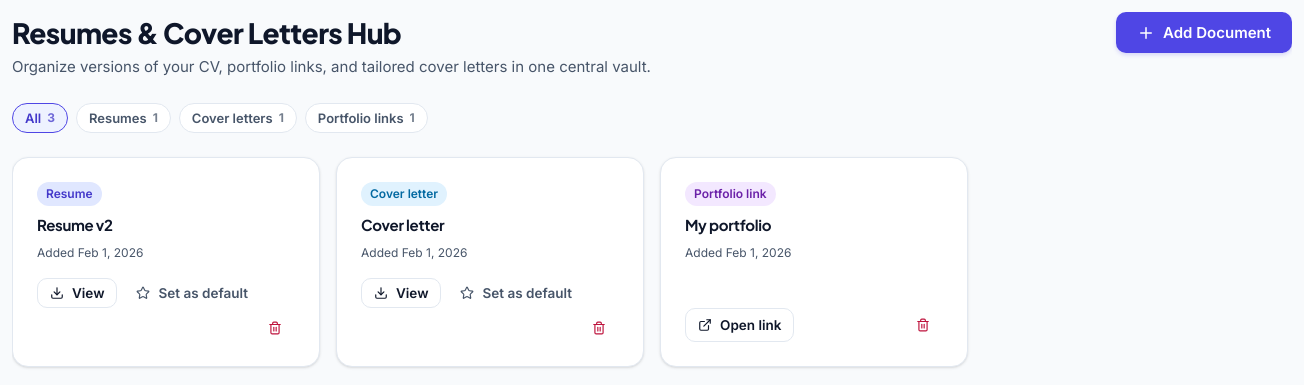
Test: filtering by type › narrows the list to one type
Click the radio button labelled "Resumes 1" at x=123, y=118, box [76, 102, 171, 132]
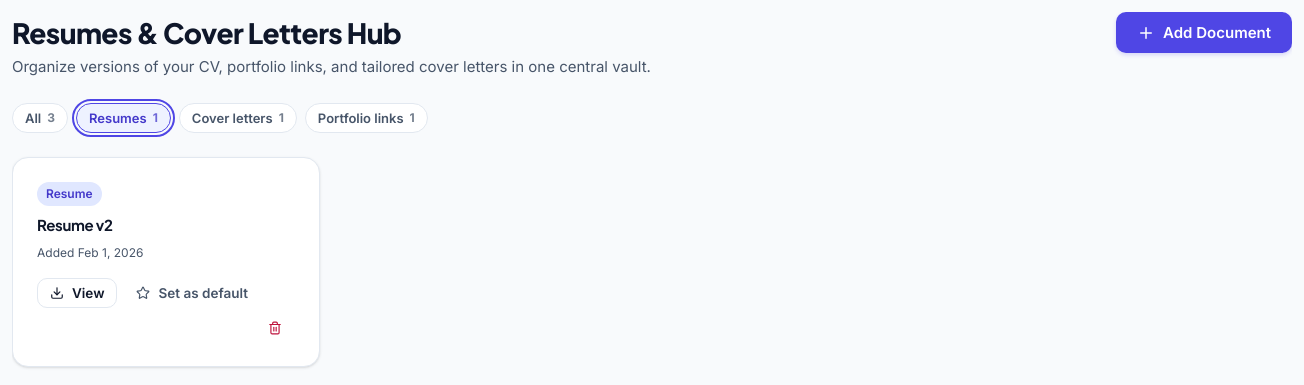
Expected: the heading "Resume v2" is shown, [37, 214, 113, 234]
Result: the heading "My portfolio" is gone
